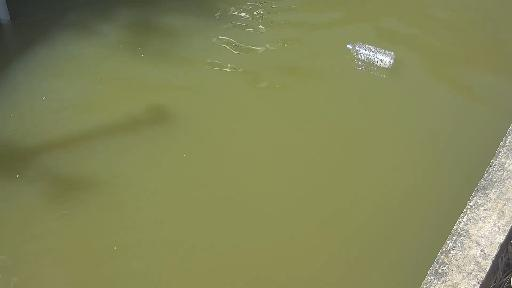plastic: (326, 25, 395, 77)
